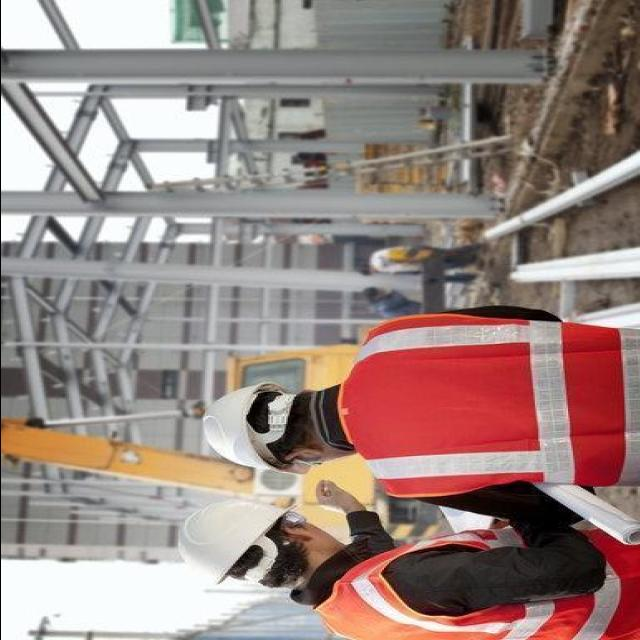helmet: (188, 372, 306, 476), (173, 495, 293, 595)
jacket: (327, 306, 640, 506), (314, 522, 640, 638)
